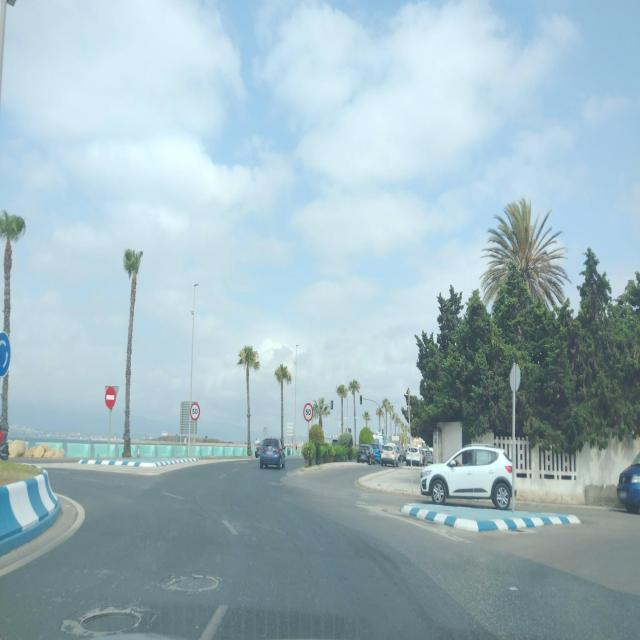car: (419, 444, 516, 509), (616, 442, 640, 514), (260, 437, 286, 470), (381, 442, 398, 468), (406, 445, 422, 467), (356, 444, 373, 464), (371, 444, 382, 464)
